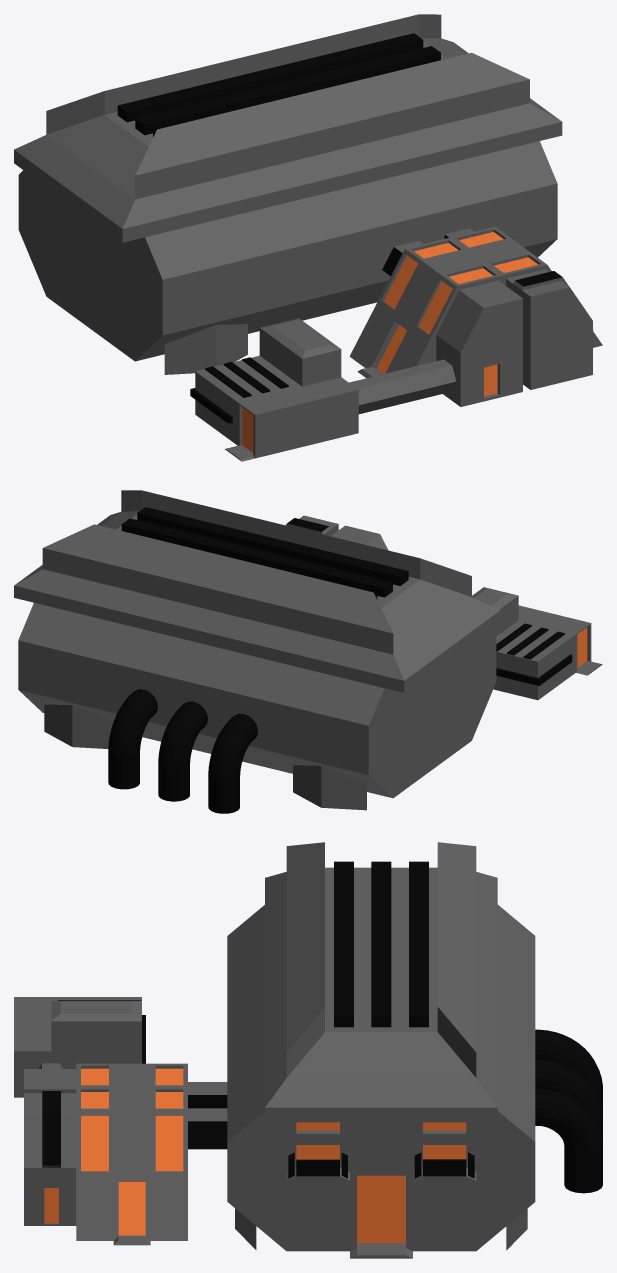
The model's file is base_enemiga.fbx.
The picture shows the model from 3 angles, top to bottom: view 1: azimuth 30°, elevation 25°; view 2: azimuth 150°, elevation 25°; view 3: azimuth 270°, elevation 25°; orthographic projection. The views are drawn at different scales.
Parts seen in each view (by area): view 1: base_enemiga; view 2: base_enemiga; view 3: base_enemiga.
Part boxes in pixels (x1,y1,x2,y2): base_enemiga: (14, 14, 602, 461); base_enemiga: (14, 490, 602, 813); base_enemiga: (14, 842, 602, 1258).
Bounding box in the file's own units: 849 × 399 × 920.
